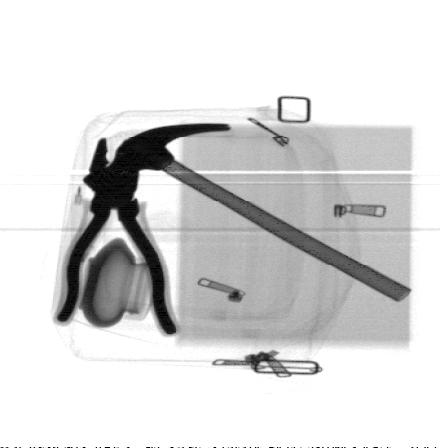Hammer: (92, 122, 412, 301)
Pliers: (50, 138, 180, 338)
